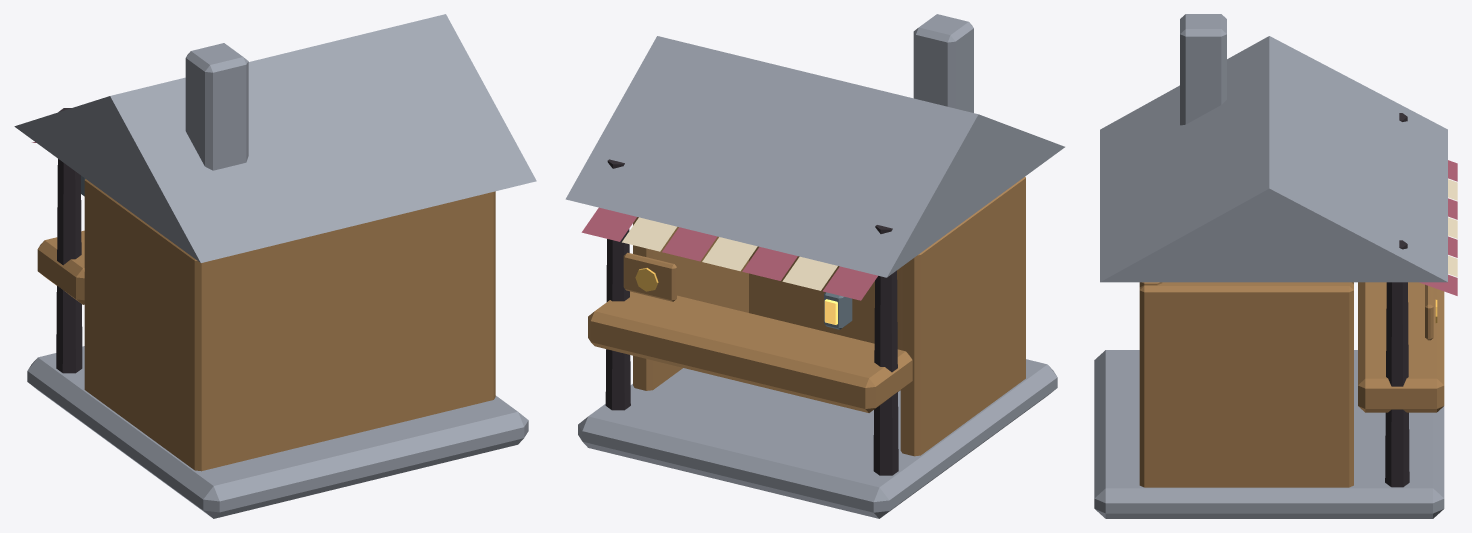
The model's file is loja_mascate.glb.
The picture shows the model from 3 angles, left to right: view 1: azimuth 30°, elevation 25°; view 2: azimuth 150°, elevation 25°; view 3: azimuth 270°, elevation 25°; orthographic projection. The views are drawn at different scales.
Visible parts, largest first — view 1: vulcao_loja_mascate; view 2: vulcao_loja_mascate; view 3: vulcao_loja_mascate.
Boxes of the visible parts, bbox=[...] form: vulcao_loja_mascate: bbox=[14, 14, 536, 518]; vulcao_loja_mascate: bbox=[565, 14, 1064, 518]; vulcao_loja_mascate: bbox=[1094, 14, 1457, 518].
Size of the model in its own units: 1.92 by 2.26 by 1.93.
